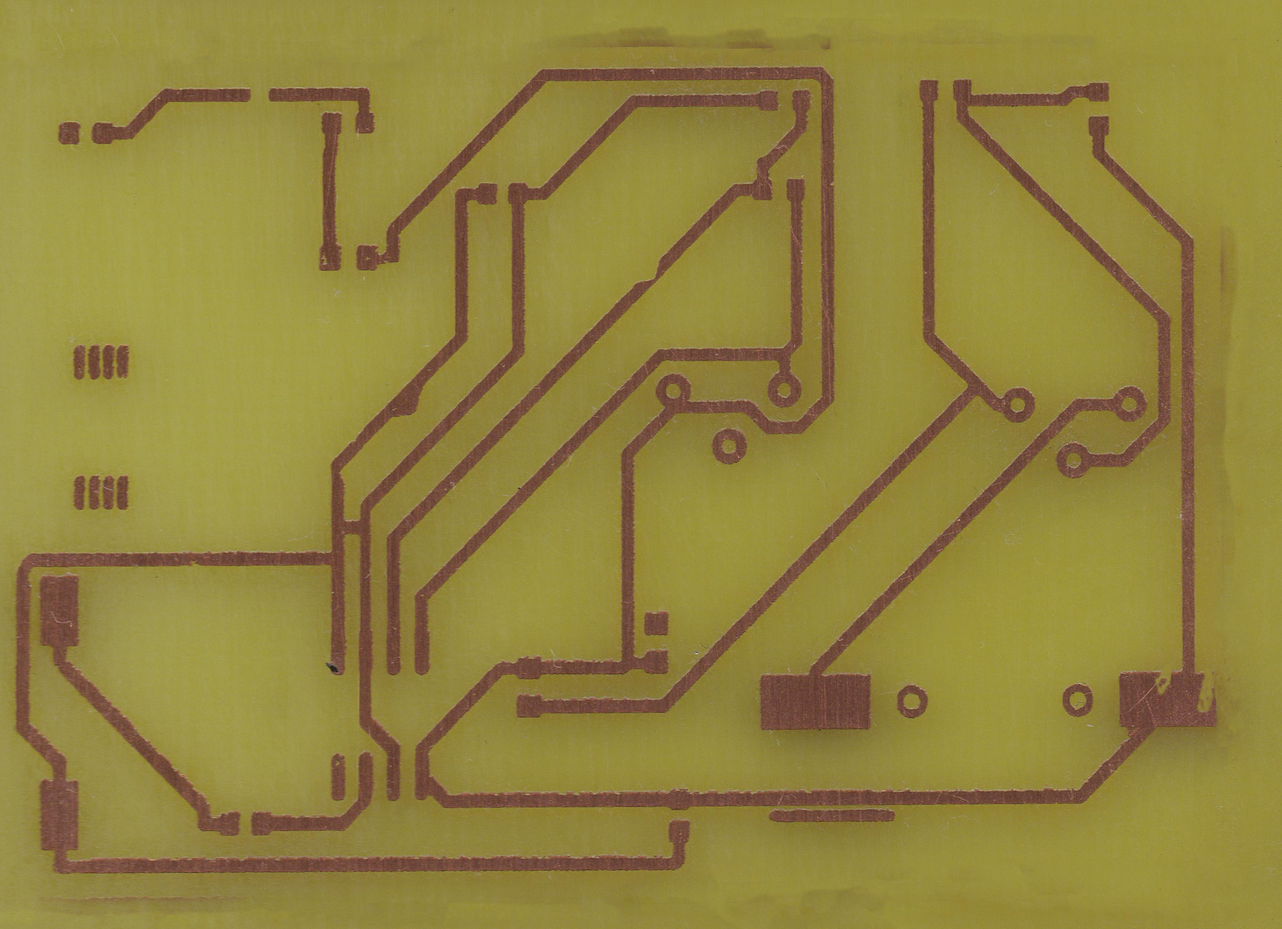missing_hole: (1117, 670, 1219, 728)
mouse_bite: (631, 252, 674, 292)
open_circuit: (235, 78, 283, 110)
short: (329, 514, 379, 545)
spur: (380, 377, 428, 427)
spurious_copper: (764, 802, 902, 831)
